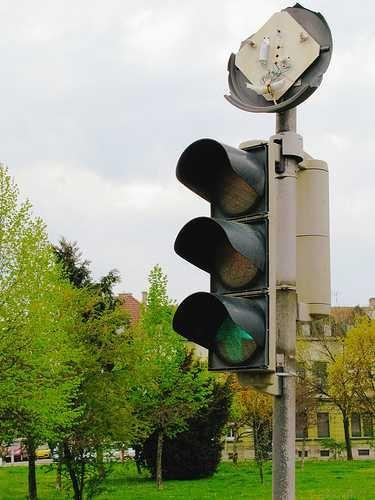green: (197, 139, 272, 374)
